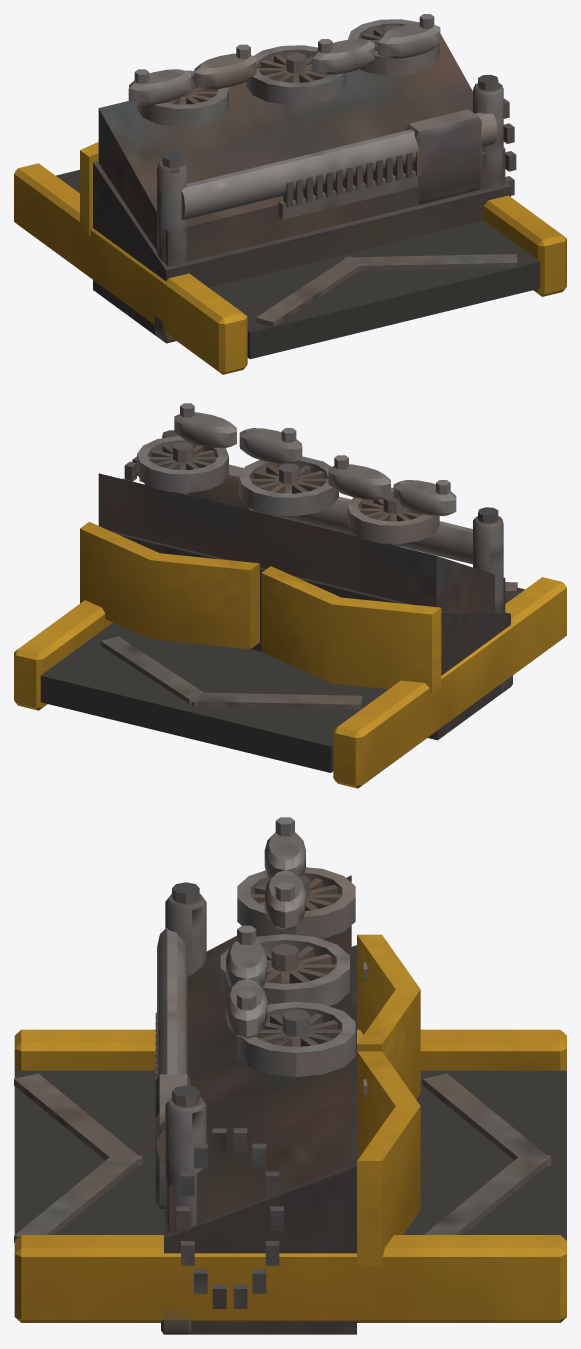
Rendered from lane-splitter.glb.
The picture shows the model from 3 angles, top to bottom: view 1: azimuth 30°, elevation 25°; view 2: azimuth 150°, elevation 25°; view 3: azimuth 270°, elevation 25°; orthographic projection. The views are drawn at different scales.
Parts seen in each view (by area): view 1: body, anim_slide_split_rack, anim_spin_gear.001, anim_spin_gear, anim_spin_gear.002, anim_crank_split_eb, anim_crank_split_wb, anim_crank_split_wa, anim_crank_split_ea; view 2: body, anim_spin_gear.001, anim_spin_gear.002, anim_spin_gear, anim_crank_split_eb, anim_crank_split_wb, anim_crank_split_ea, anim_crank_split_wa, anim_slide_split_rack; view 3: body, anim_spin_gear.002, anim_spin_gear.001, anim_spin_gear, anim_crank_split_eb, anim_crank_split_wb, anim_crank_split_ea, anim_crank_split_wa, anim_slide_split_rack.
Boxes of the visible parts, x1,y1,x2,y2 form: body: (14, 33, 566, 374); anim_slide_split_rack: (406, 109, 481, 204); anim_spin_gear.001: (246, 45, 346, 105); anim_spin_gear: (137, 70, 228, 127); anim_spin_gear.002: (348, 19, 439, 75); anim_crank_split_eb: (377, 14, 440, 58); anim_crank_split_wb: (194, 44, 256, 89); anim_crank_split_wa: (128, 69, 191, 105); anim_crank_split_ea: (312, 38, 374, 74); body: (14, 430, 566, 788); anim_spin_gear.001: (238, 456, 338, 516); anim_spin_gear.002: (137, 436, 228, 492); anim_spin_gear: (347, 487, 439, 543); anim_crank_split_eb: (174, 403, 236, 448); anim_crank_split_wb: (328, 455, 390, 500); anim_crank_split_ea: (239, 428, 302, 463); anim_crank_split_wa: (393, 480, 456, 516); anim_slide_split_rack: (188, 464, 259, 512); body: (14, 875, 566, 1334); anim_spin_gear.002: (237, 1001, 355, 1076); anim_spin_gear.001: (220, 934, 349, 1005); anim_spin_gear: (237, 867, 355, 939); anim_crank_split_eb: (226, 979, 267, 1038); anim_crank_split_wb: (264, 870, 305, 930); anim_crank_split_ea: (226, 925, 267, 987); anim_crank_split_wa: (264, 817, 305, 878); anim_slide_split_rack: (155, 1074, 191, 1208).
Bounding box in the file's own units: 0.9875 × 0.612 × 1.
3 materials, 2 textured.
